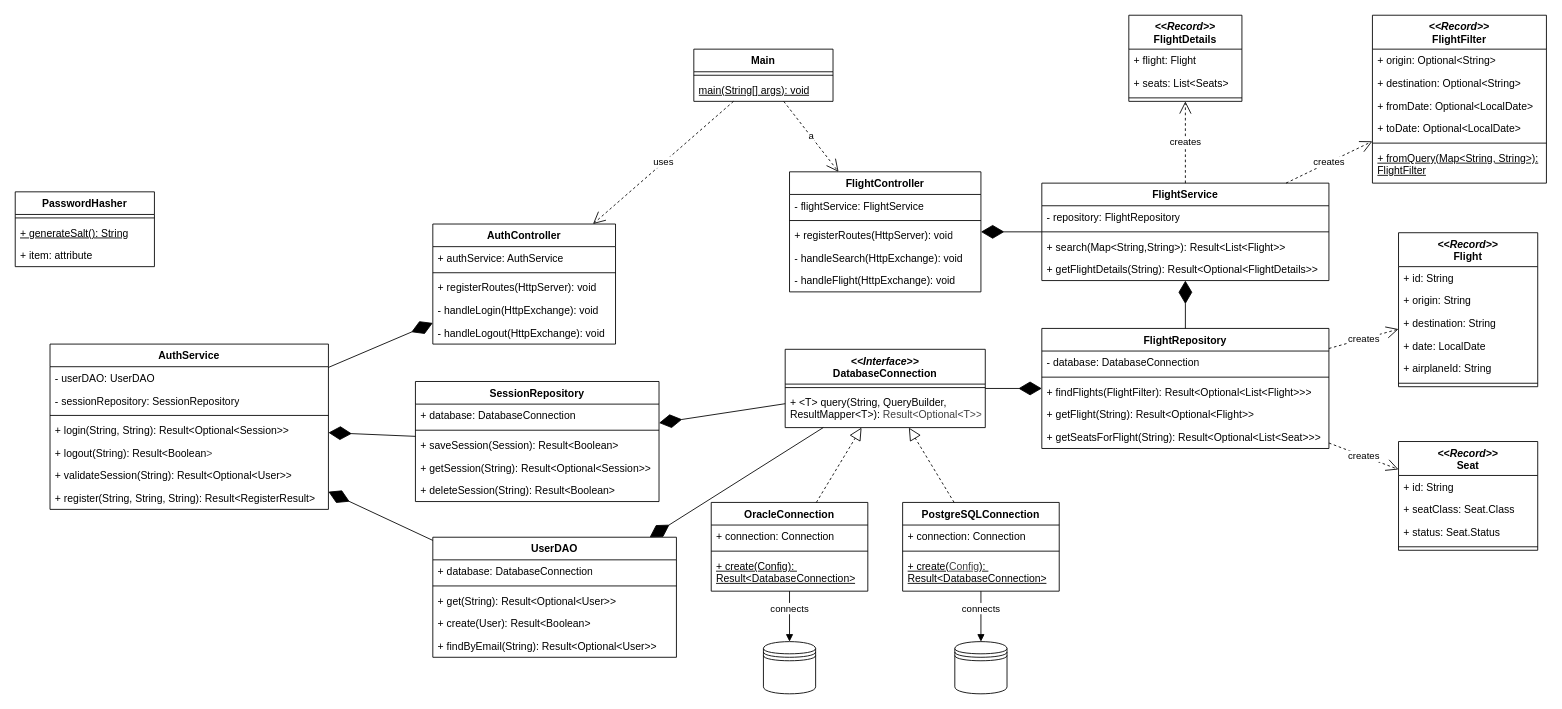
Image size: 1562x709. Some labels were removed from this diagram. The shapes that lost their labels are listed below. From the top down, each one's centre as x and y in pixels, then its label:
[789,667]: OracleXE
[980,667]: Postgre SQL
